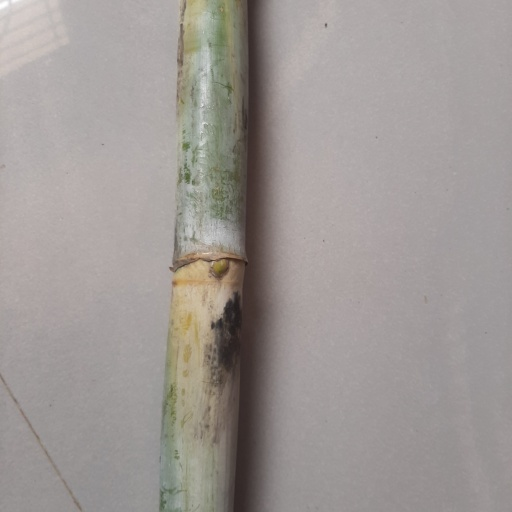Bud: (209, 257, 229, 281)
